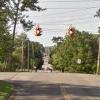Tree: (49, 24, 100, 72)
